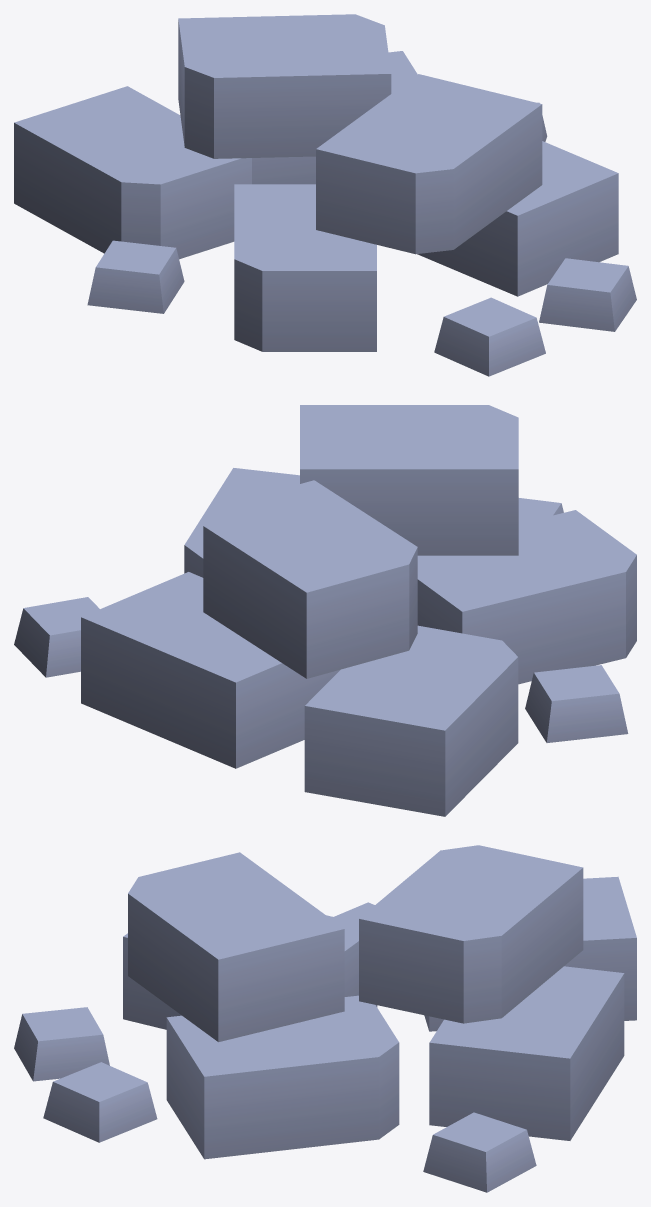
The model's file is kenney-rubble.glb.
3 views of the same model, one above another, from view 1: azimuth 30°, elevation 25°; view 2: azimuth 150°, elevation 25°; view 3: azimuth 270°, elevation 25° (orthographic). The views are drawn at different scales.
Visible parts, largest first — view 1: debris; view 2: debris; view 3: debris.
Boxes of the visible parts, <box> form: debris: <box>14,14,636,376</box>; debris: <box>14,405,636,816</box>; debris: <box>14,845,636,1192</box>.
Size of the model in its own units: 0.5362 by 0.16 by 0.5473.
1 material, 1 textured.
